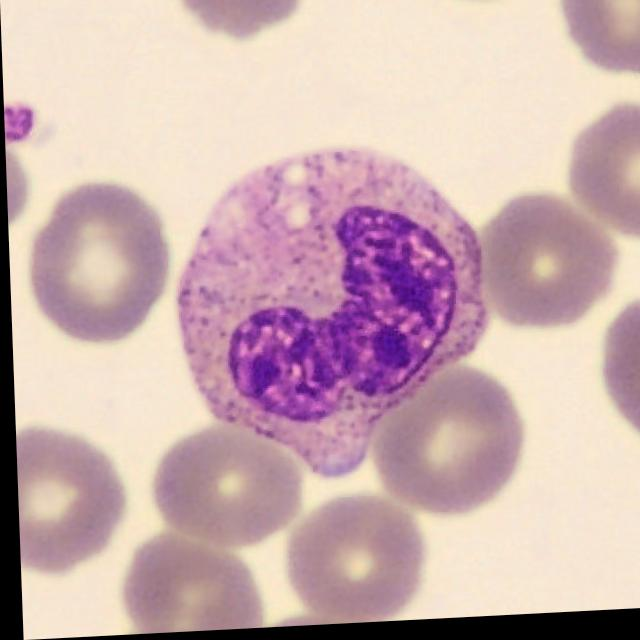Metamielocito: (175, 152, 485, 484)
